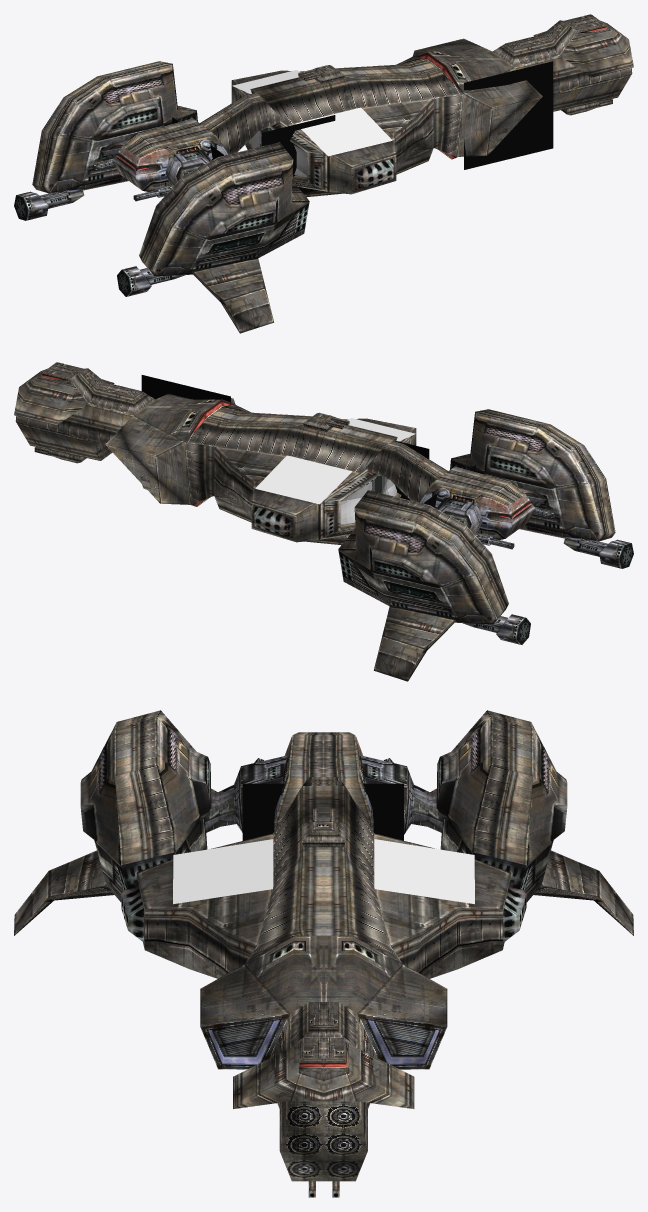
File: pvs09.obj
3 renders of one model, top to bottom at view 1: azimuth 30°, elevation 25°; view 2: azimuth 150°, elevation 25°; view 3: azimuth 270°, elevation 25°, orthographic. The views are drawn at different scales.
Parts seen in each view (by area): view 1: WING010, PVS03_HULL0, PVS03_LENS100, DECAL000.003, PVS03_LENS090, PVS03_LENS080, WIN_SHEILD0; view 2: WING010, PVS03_HULL0, DECAL000.003, PVS03_LENS100, PVS03_LENS080, WIN_SHEILD0; view 3: PVS03_HULL0, WING010, DECAL000.003, PVS03_LENS110, THRUSTER_LIGHT0.
Part boxes in pixels (x1,y1,x2,y2): WING010: (14,61,309,333); PVS03_HULL0: (231,14,633,197); PVS03_LENS100: (464,61,553,169); DECAL000.003: (232,70,392,156); PVS03_LENS090: (262,115,335,193); PVS03_LENS080: (250,127,307,177); WIN_SHEILD0: (414,26,607,159); WING010: (338,409,633,681); PVS03_HULL0: (14,362,416,545); DECAL000.003: (255,418,415,504); PVS03_LENS100: (141,375,230,415); PVS03_LENS080: (340,475,396,524); WIN_SHEILD0: (40,373,235,506); PVS03_HULL0: (121,786,526,1181); WING010: (14,710,633,935); DECAL000.003: (173,839,474,904); PVS03_LENS110: (242,783,403,840); THRUSTER_LIGHT0: (208,1020,439,1065).
Size of the model in its own units: 755 by 195 by 475.
Materials: 20 (17 with a texture image).
